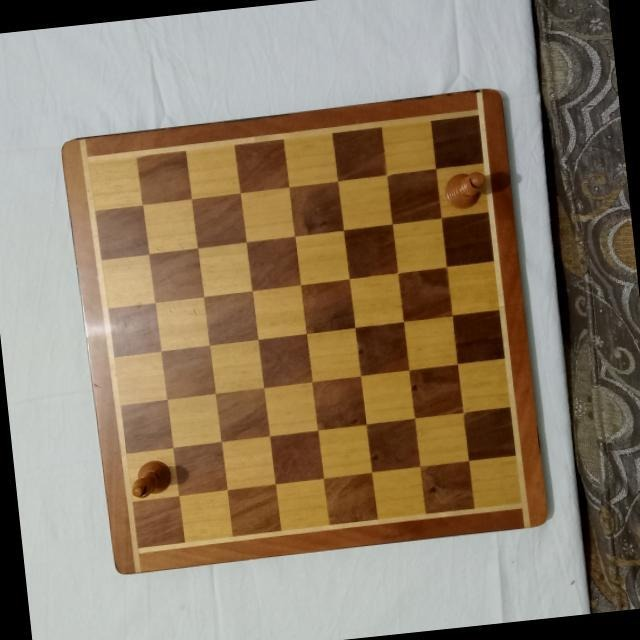white-bishop: (440, 165, 488, 209), (126, 457, 174, 499)
